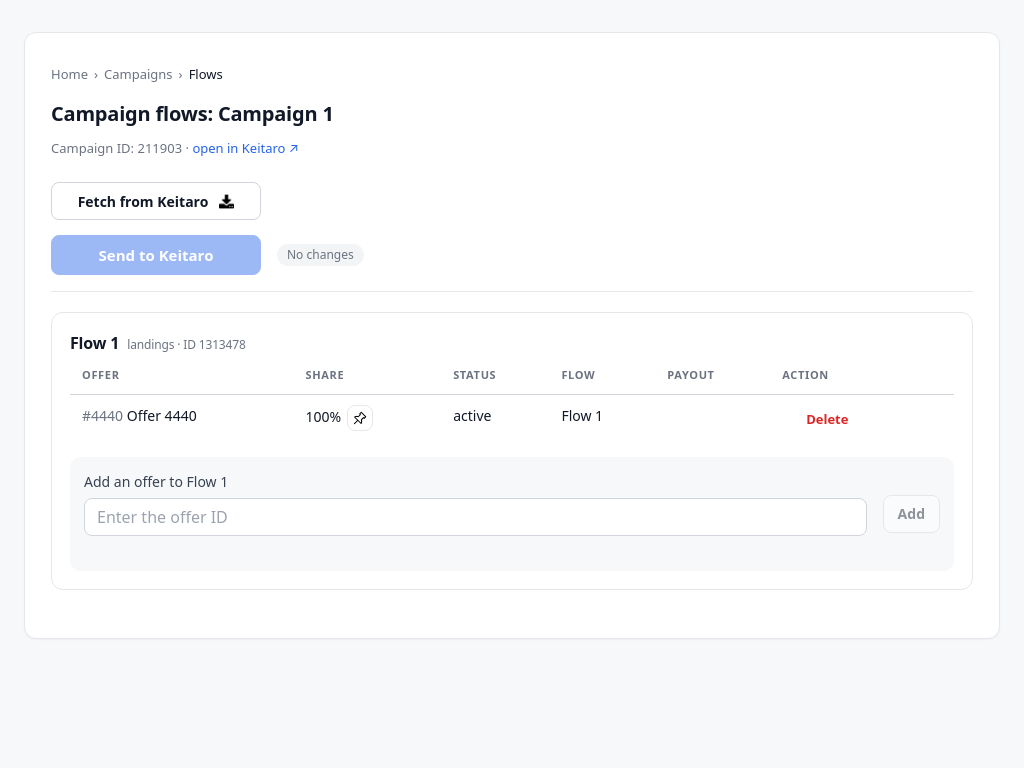
Test case: StreamsContent — "Add" offer (#4518) › after "Add" the row immediately shows the name, payout and status — without "failed to load the offer"
The width and height of the screenshot is (1024, 768).
Expected: the text "Offer 4440" is shown, [127,406,197,424]
Type "4518" into the search field labelled "Add an offer to Flow 1".
click(475, 516); type("4518")  # box [84,498,867,536]
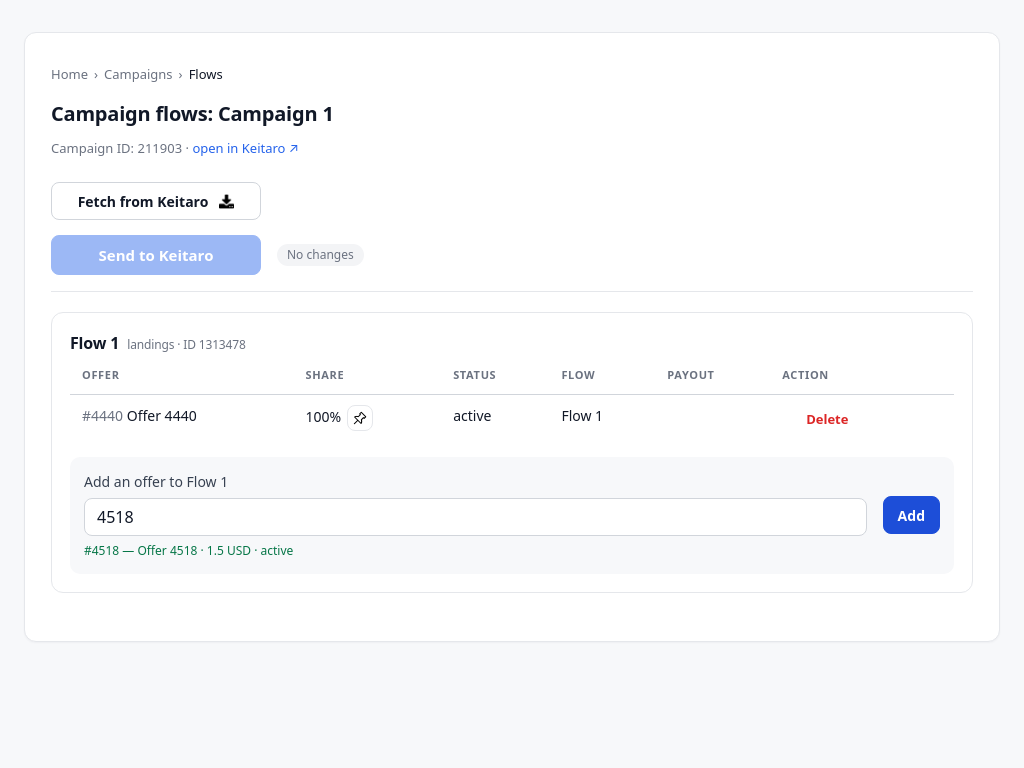
Now the text "#4518 — Offer 4518 · 1.5 USD · active" is shown, box [84,542,293,558]
Click the button "Add".
click(911, 515)  # box [883,496,940,534]
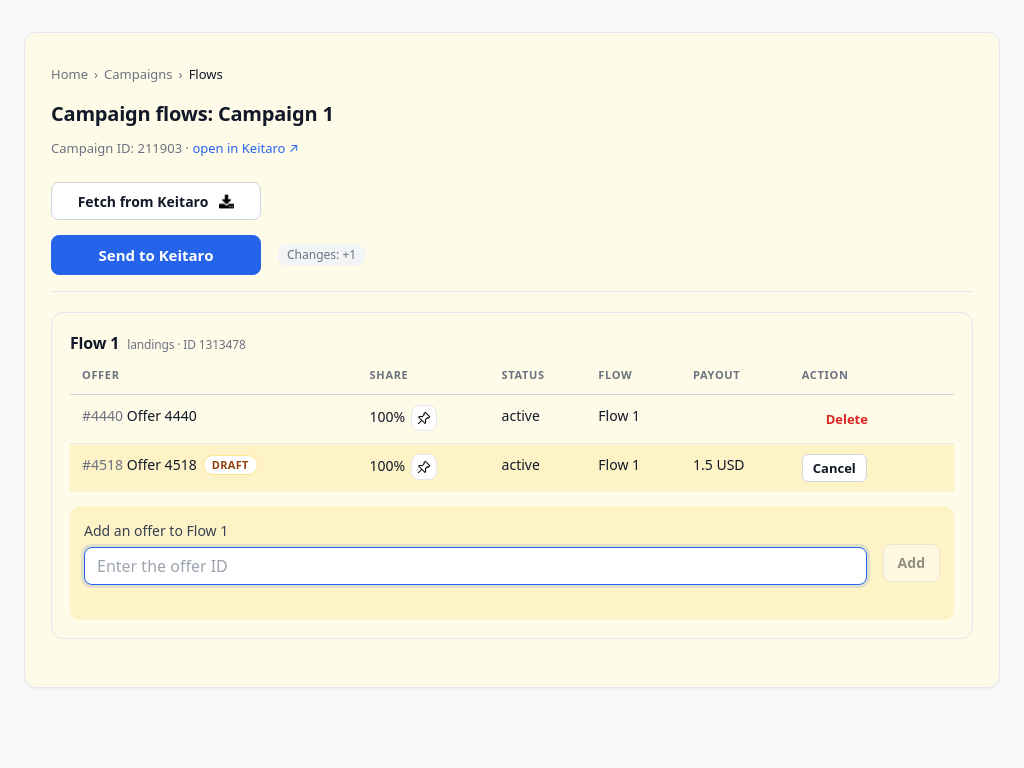
Now the text "1.5 USD" is shown, box [681,443,790,492]
Now the text "Offer 4518" is shown, box [127,454,197,474]
Now the text "draft" is shown, box [203,454,258,475]
